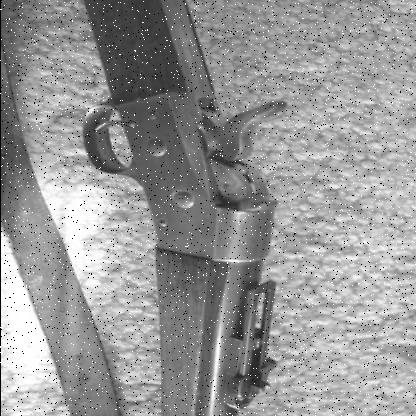rifle: (50, 10, 327, 412)
